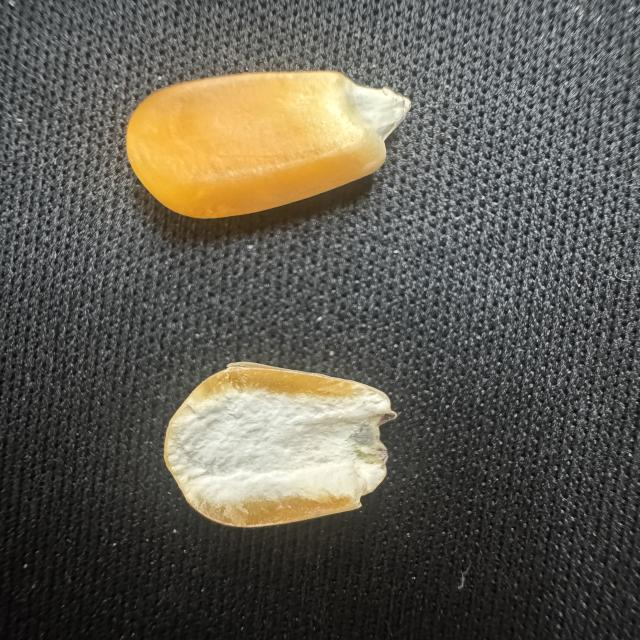Bad-Seed: (144, 356, 420, 532)
Good-Seed: (117, 58, 419, 230)
